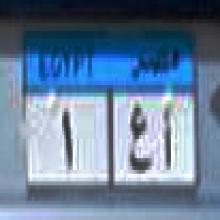1: (58, 102, 78, 175)
ain: (126, 103, 154, 177)
alif: (160, 100, 174, 171)
